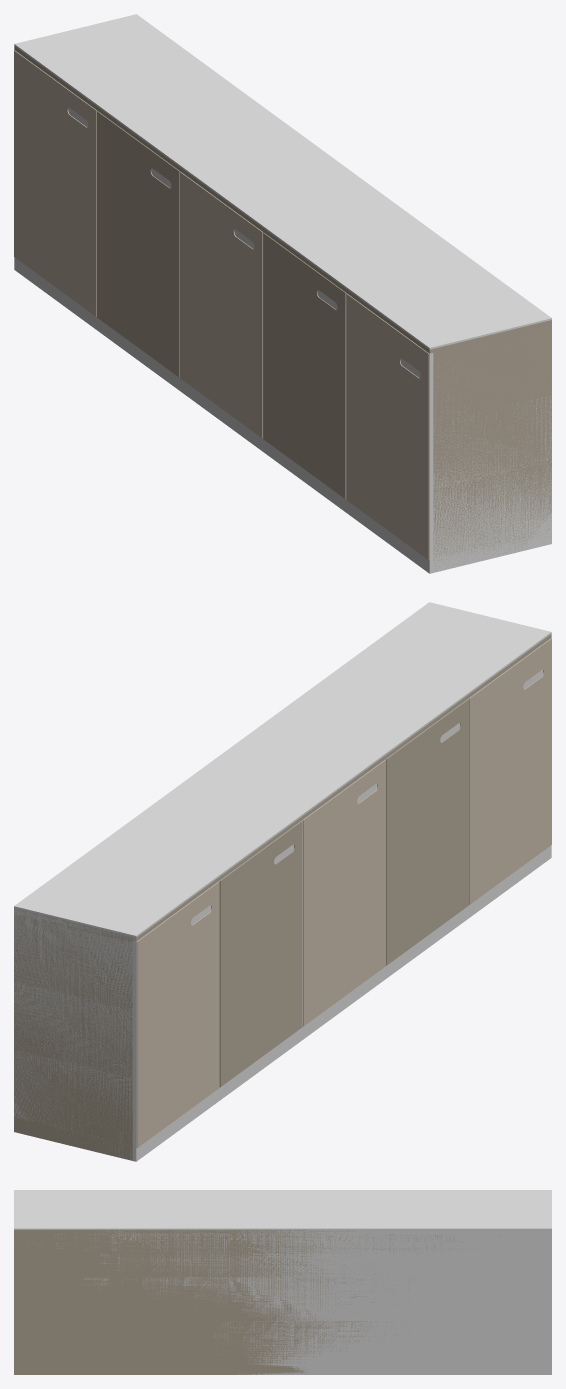
The model's file is Cabinet8.fbx.
3 views of the same model, one above another, from view 1: azimuth 30°, elevation 25°; view 2: azimuth 150°, elevation 25°; view 3: azimuth 270°, elevation 25° (orthographic). The views are drawn at different scales.
Visible parts, largest first — view 1: Cabinet8_NMO, Cabinet8, Cabinet8_Door1-4, Cabinet8_Door1-5, Cabinet8_Door1-2, Cabinet8_Door1-3, Cabinet8_Door1-1; view 2: Cabinet8_NMO, Cabinet8, Cabinet8_Door1-2, Cabinet8_Door1-1, Cabinet8_Door1-4, Cabinet8_Door1-3, Cabinet8_Door1-5; view 3: Cabinet8_NMO, Cabinet8.
Part boxes in pixels (x1,y1,x2,y2): Cabinet8_NMO: [14, 14, 551, 573]; Cabinet8: [14, 46, 551, 571]; Cabinet8_Door1-4: [263, 232, 346, 499]; Cabinet8_Door1-5: [346, 293, 429, 559]; Cabinet8_Door1-2: [97, 111, 179, 377]; Cabinet8_Door1-3: [180, 172, 262, 438]; Cabinet8_Door1-1: [14, 50, 96, 316]; Cabinet8_NMO: [14, 602, 551, 1161]; Cabinet8: [14, 634, 551, 1160]; Cabinet8_Door1-2: [219, 820, 302, 1087]; Cabinet8_Door1-1: [136, 881, 219, 1147]; Cabinet8_Door1-4: [386, 699, 468, 965]; Cabinet8_Door1-3: [303, 760, 385, 1026]; Cabinet8_Door1-5: [469, 638, 551, 904]; Cabinet8_NMO: [14, 1190, 551, 1374]; Cabinet8: [14, 1230, 500, 1374].
Bounding box in the file's own units: 171 × 300 × 1000.
